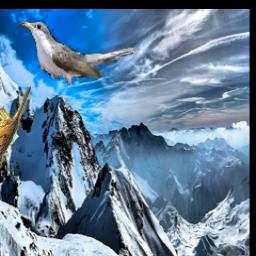Cuckoo: (19, 21, 139, 90)
Sparrow: (0, 86, 32, 172)
